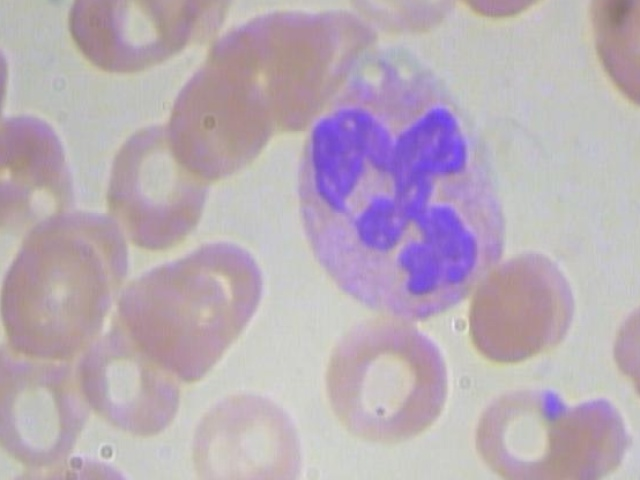RBC: (315, 314, 453, 450), (100, 117, 212, 258), (163, 45, 274, 187), (116, 256, 240, 380), (0, 230, 109, 362), (0, 327, 89, 469), (469, 376, 579, 480), (59, 0, 204, 78), (189, 386, 307, 480), (78, 336, 184, 438), (468, 254, 558, 365), (553, 393, 632, 480), (581, 0, 640, 116), (337, 0, 461, 44), (607, 285, 640, 420)
WBC: (284, 33, 516, 334)
